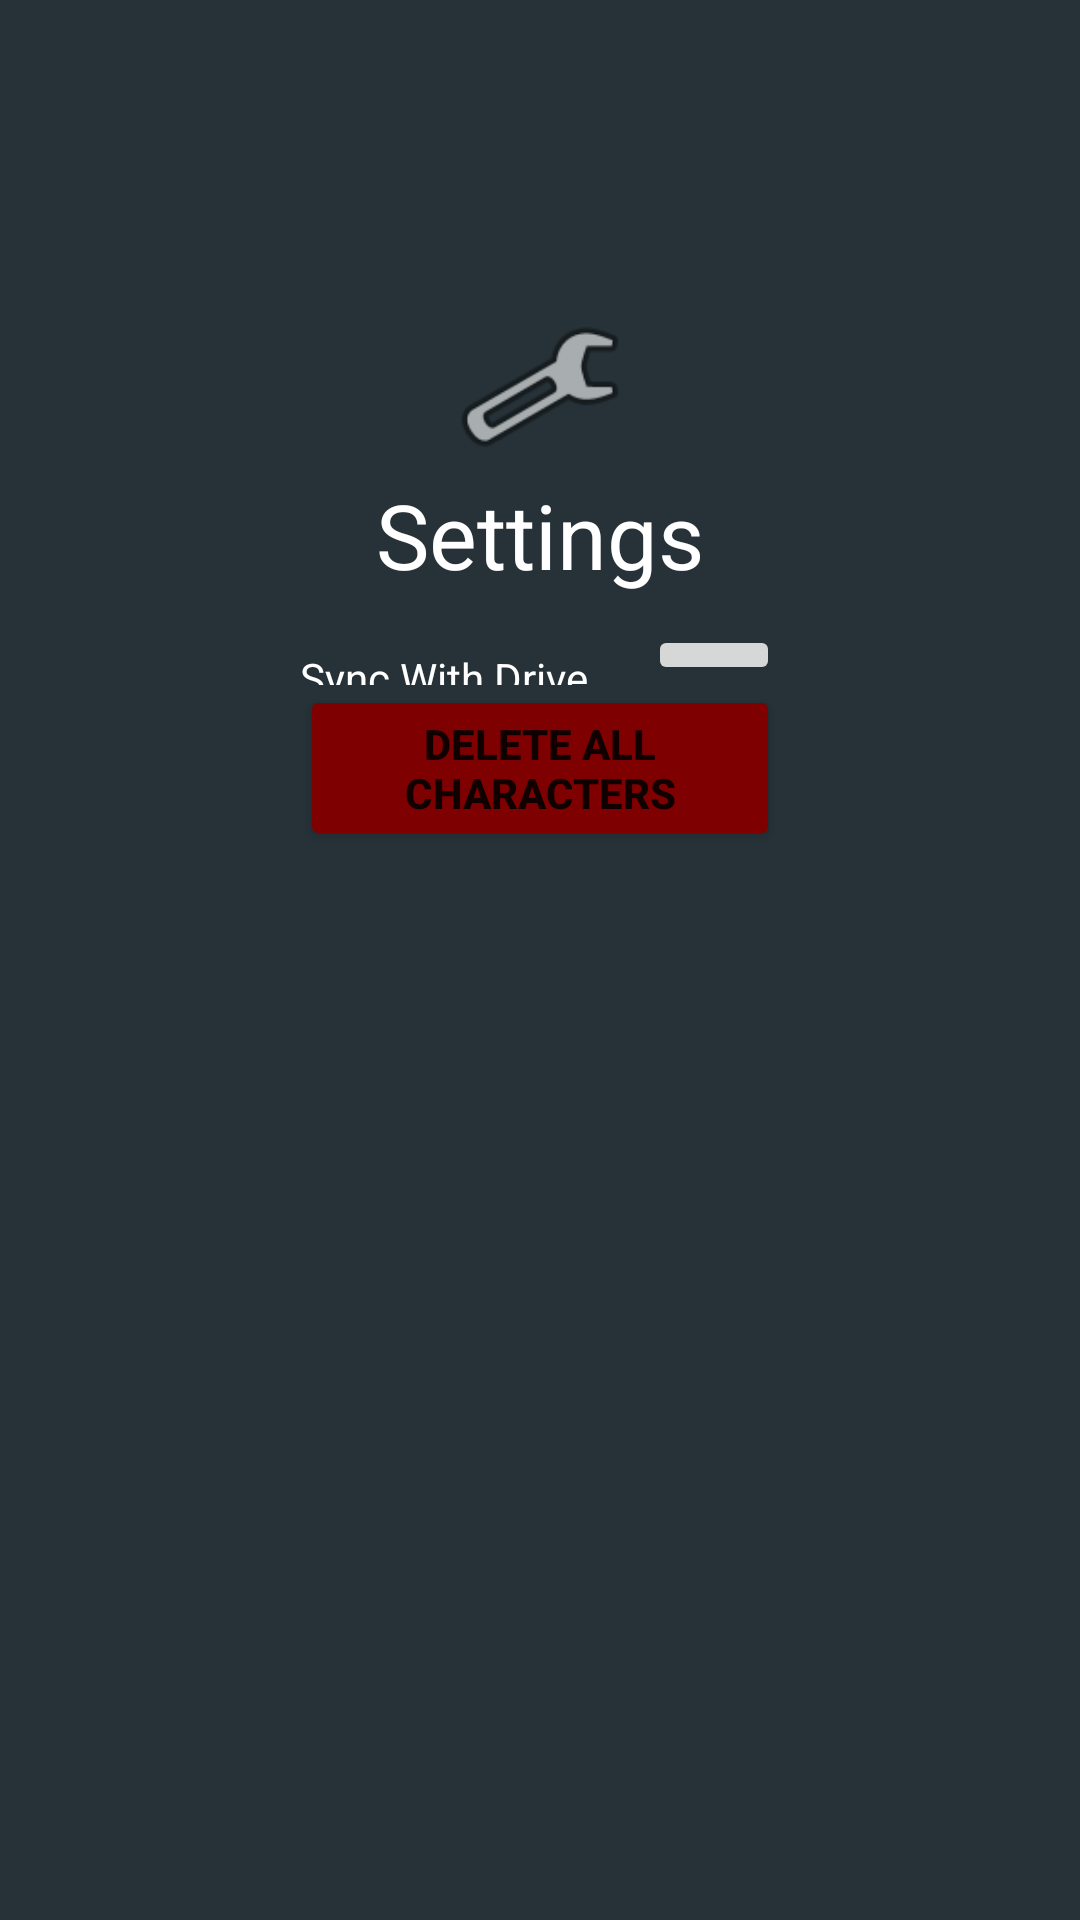

Point at icon controls on the screen. Image size 1080 x 1920, points as (x,y).
manage: (540,387)
